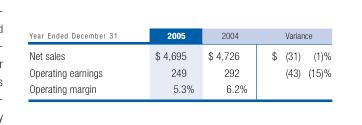table: (28, 29, 330, 94)
table column: (28, 29, 135, 94), (135, 29, 200, 94), (200, 29, 258, 94), (258, 29, 303, 94), (303, 29, 330, 94)
table column header: (28, 29, 330, 63)
table row: (28, 44, 330, 63), (28, 63, 330, 79), (28, 29, 330, 44), (28, 79, 330, 94)
table spanning cell: (28, 29, 135, 63), (135, 29, 200, 63), (200, 29, 258, 63), (258, 29, 330, 44)
